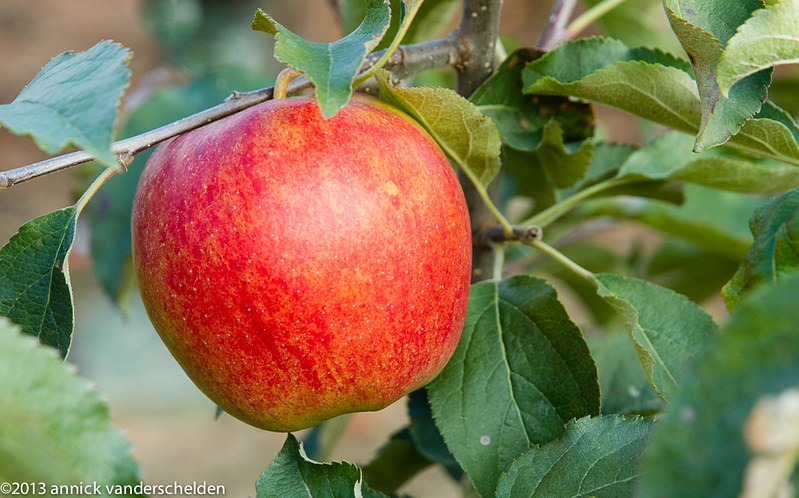apple: (123, 91, 486, 435)
